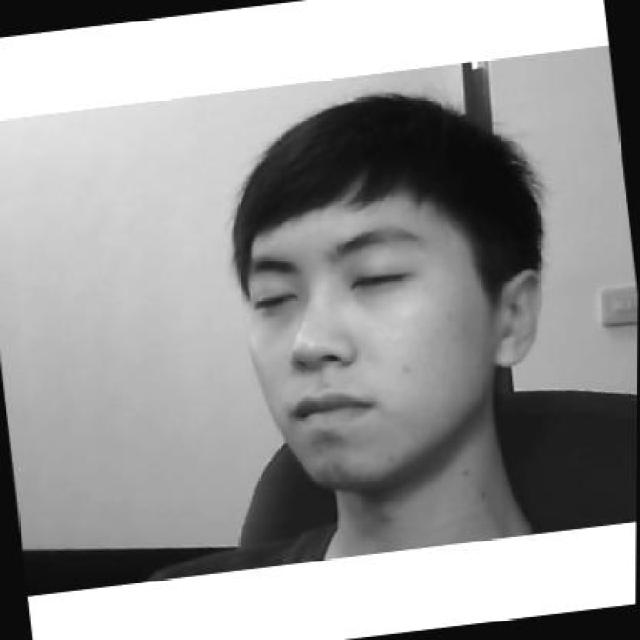inattentif: (212, 71, 566, 503)
